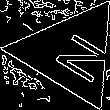N_NW: (35, 22, 106, 83)
